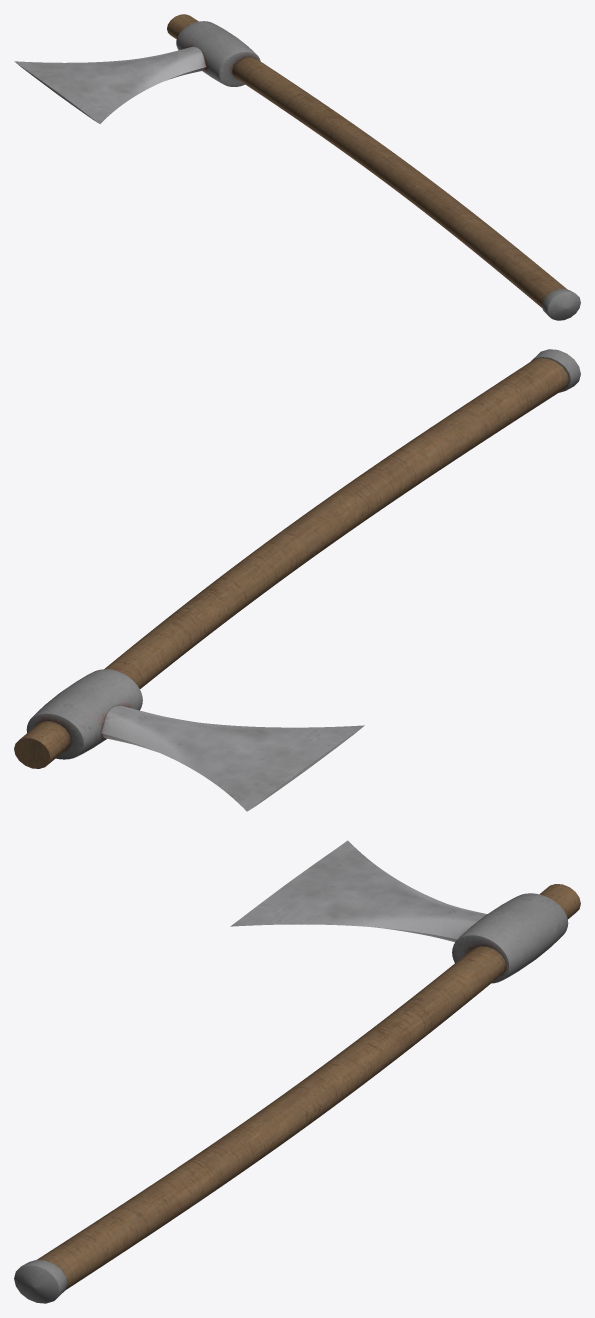
File: carpenter_axe.glb
3 renders of one model, top to bottom at view 1: azimuth 30°, elevation 25°; view 2: azimuth 150°, elevation 25°; view 3: azimuth 330°, elevation 25°, orthographic. The views are drawn at different scales.
Visible parts, largest first — view 1: carpenter_axe; view 2: carpenter_axe; view 3: carpenter_axe.
Part boxes in pixels (x1,y1,x2,y2): carpenter_axe: [14, 14, 580, 320]; carpenter_axe: [14, 349, 580, 811]; carpenter_axe: [14, 840, 580, 1303].
Size of the model in its own units: 0.197 by 0.0378 by 0.7135.
Materials: 1 (1 with a texture image).
